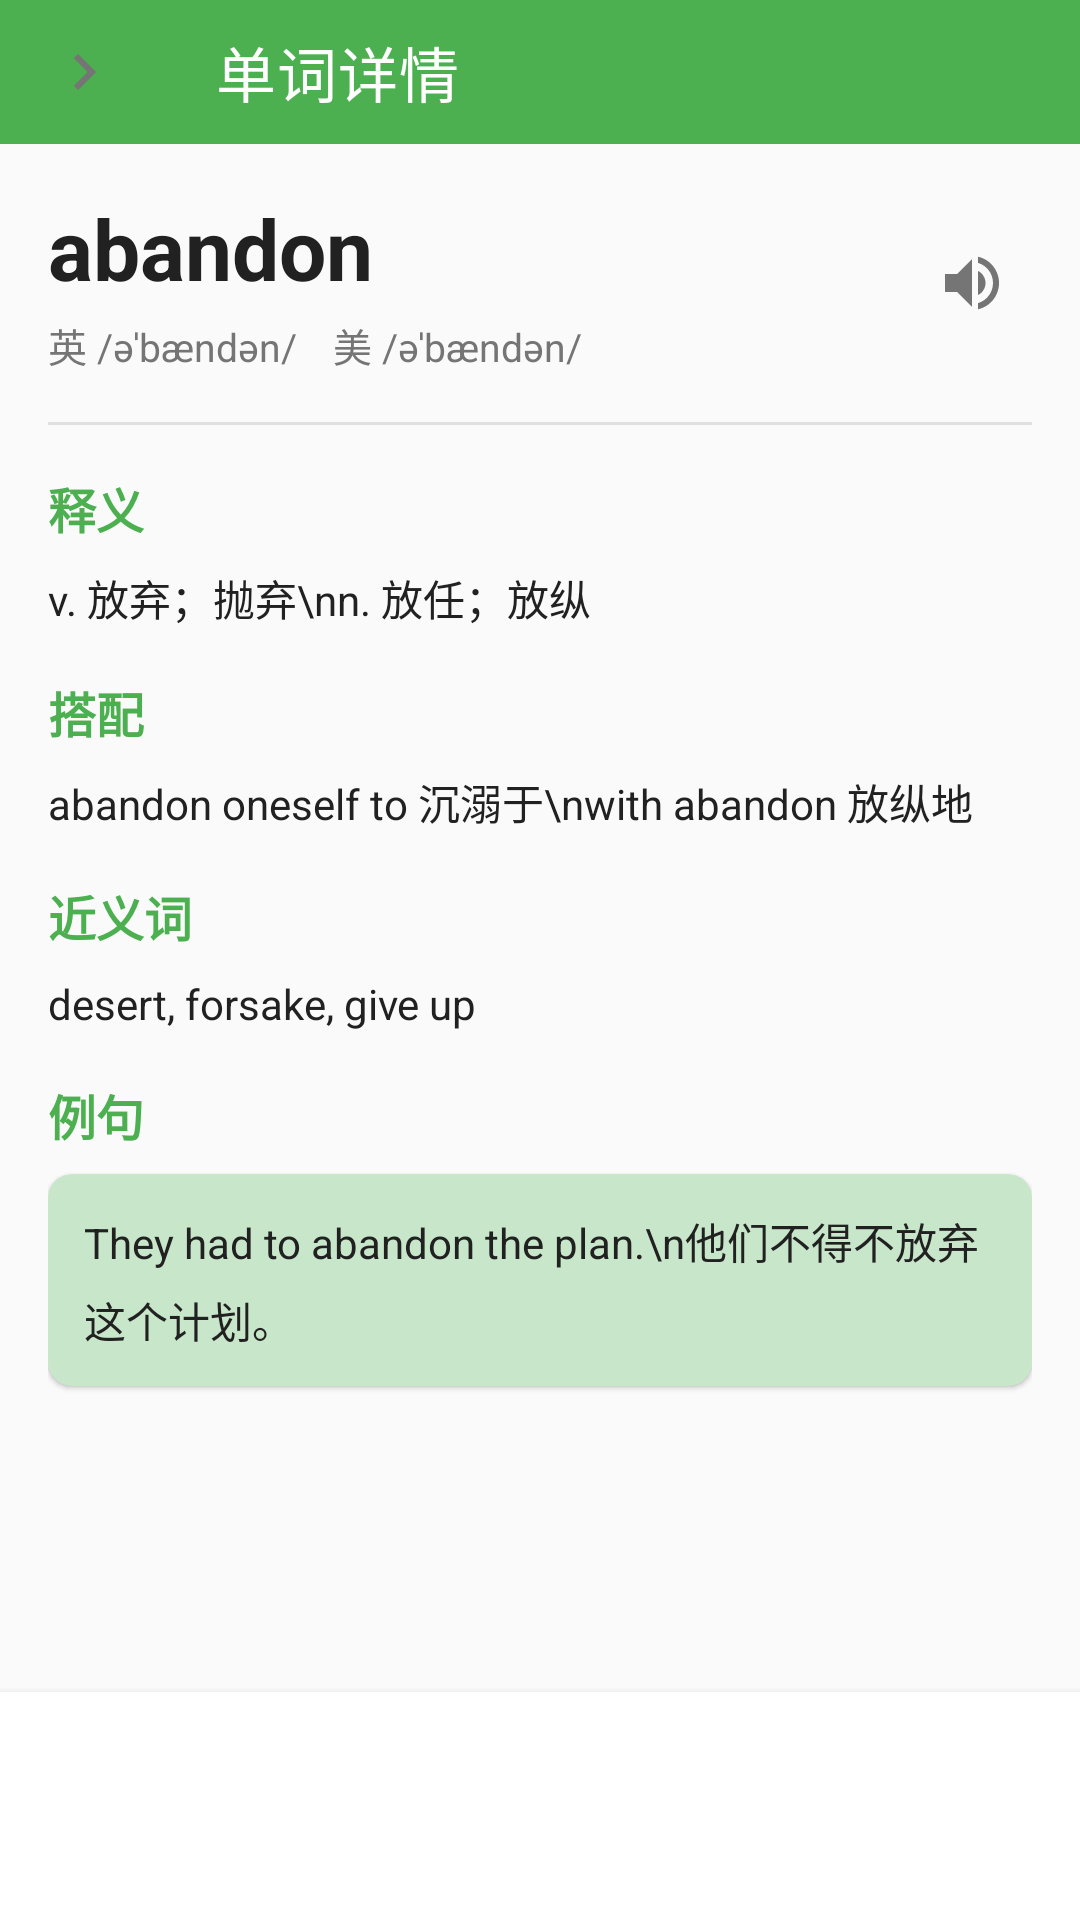

Screen size 1080*1920. Icon name, then its box in pixels as [x1, y1, x2, y2]:
volume up: [945, 256, 999, 310]
